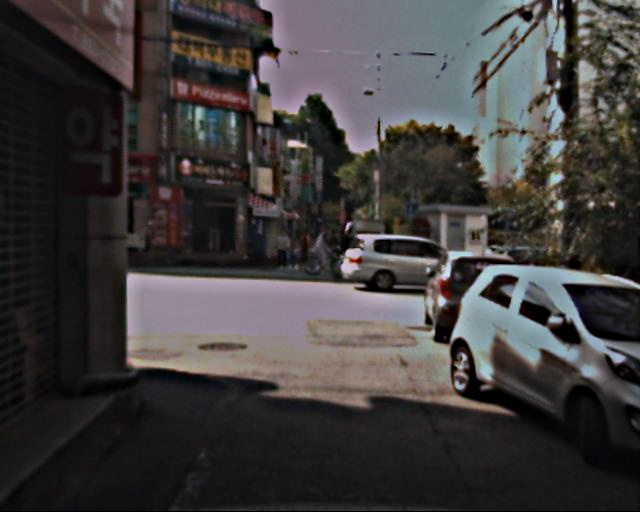person: (315, 227, 332, 269), (274, 229, 291, 270), (297, 225, 314, 266), (332, 227, 351, 258)
